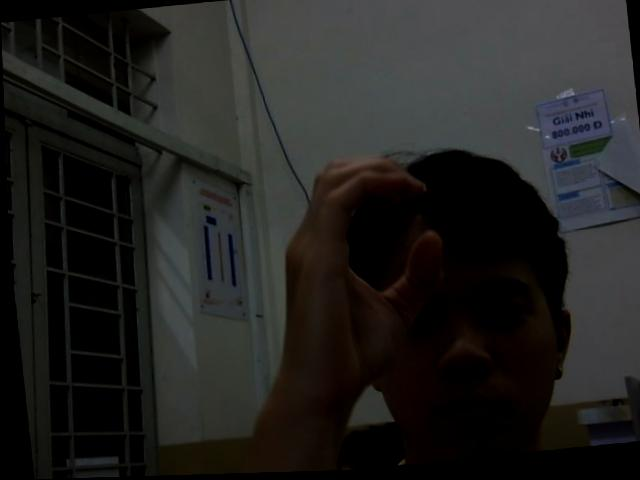C: (253, 147, 455, 413)
